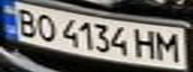1: (75, 19, 96, 51)
3: (90, 21, 112, 54)
4: (109, 24, 133, 57), (57, 16, 81, 48)
B: (9, 6, 42, 38)
H: (133, 27, 160, 60)
M: (151, 29, 184, 62)
O: (30, 11, 60, 43)
